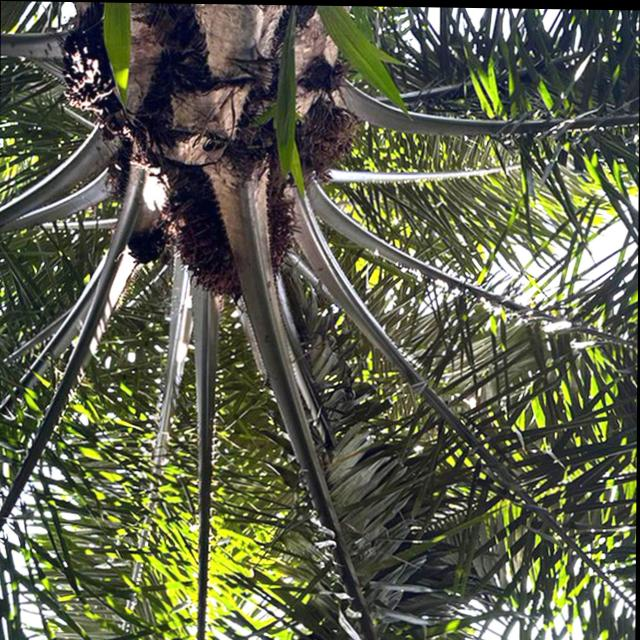ripe: (165, 161, 311, 313)
